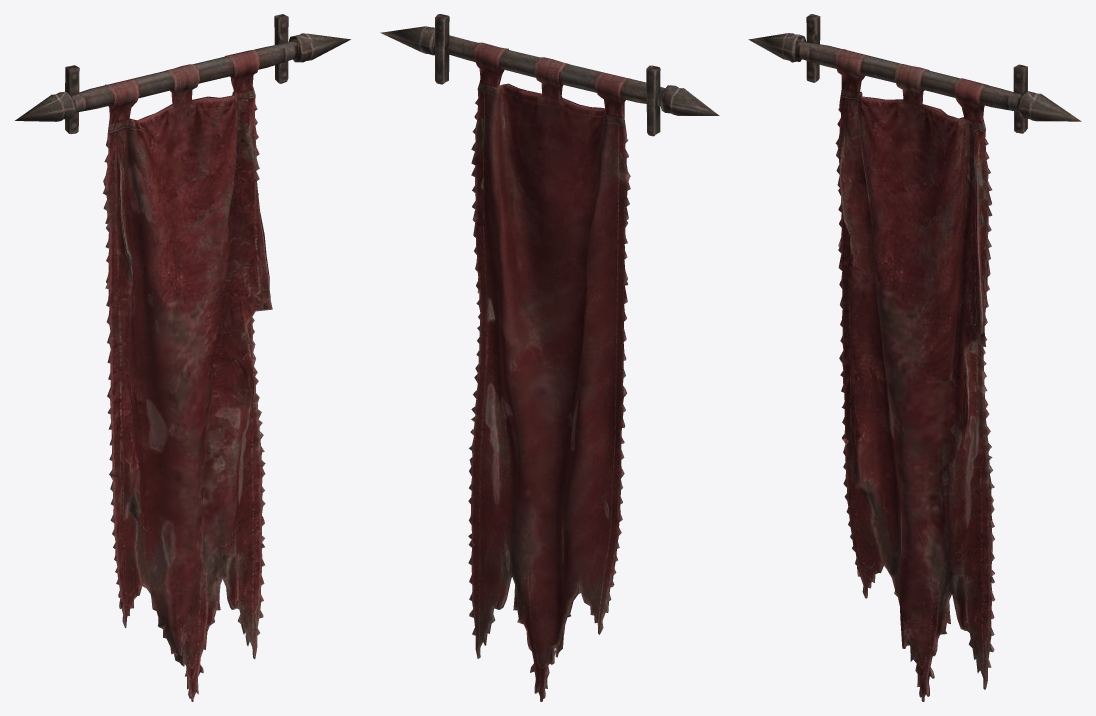
Rendered from d_banner_thin_red.glb.
3 views of the same model, side by side, from view 1: azimuth 30°, elevation 25°; view 2: azimuth 150°, elevation 25°; view 3: azimuth 330°, elevation 25° (orthographic).
Visible parts, largest first — view 1: d_banner_thin_red; view 2: d_banner_thin_red; view 3: d_banner_thin_red.
Part boxes in pixels (x1,y1,x2,y2): d_banner_thin_red: (15,14,350,701); d_banner_thin_red: (380,14,719,701); d_banner_thin_red: (748,14,1081,701).
Bounding box in the file's own units: 1.7 × 3.17 × 0.1556.
1 material, 1 textured.
